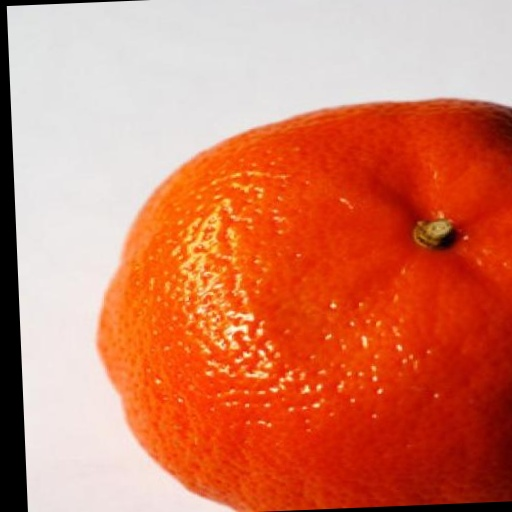fruit: (98, 100, 512, 512)
